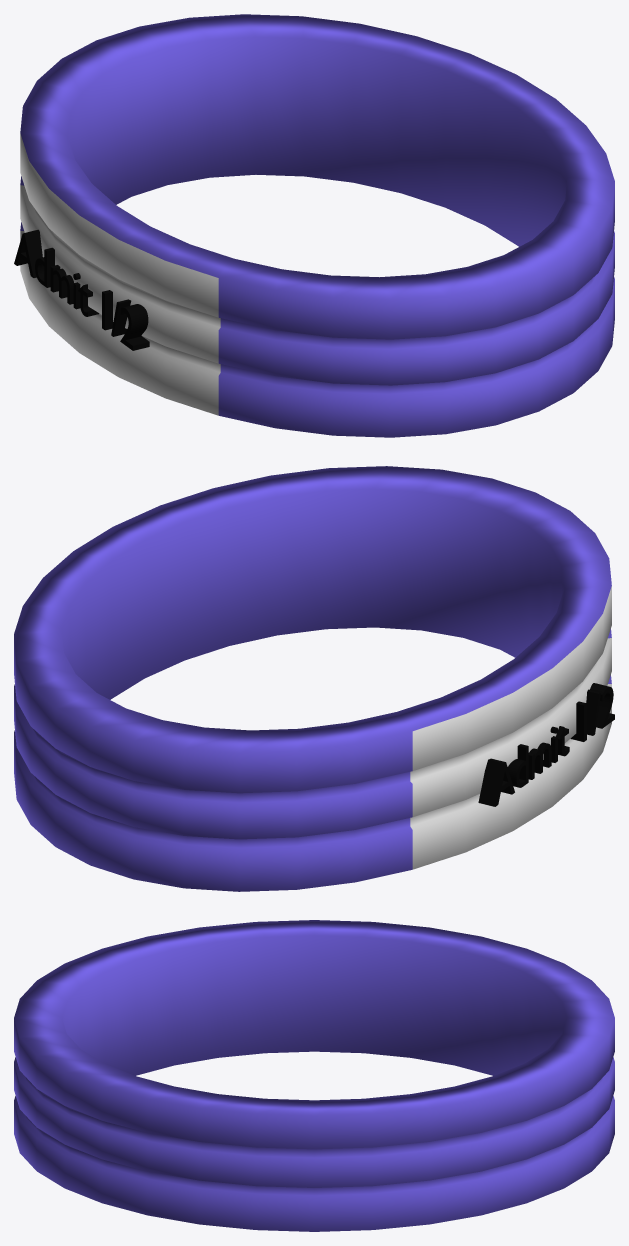
File: wristband.fbx
3 renders of one model, top to bottom at view 1: azimuth 30°, elevation 25°; view 2: azimuth 150°, elevation 25°; view 3: azimuth 270°, elevation 25°, orthographic. The views are drawn at different scales.
Visible parts, largest first — view 1: Circle, Text; view 2: Circle, Text; view 3: Circle.
Part boxes in pixels (x1,y1,x2,y2): Circle: (20,14,614,437); Text: (14,229,149,350); Circle: (14,466,611,891); Text: (478,683,614,806); Circle: (14,920,614,1231).
Size of the model in its own units: 156 by 42.59 by 200.
